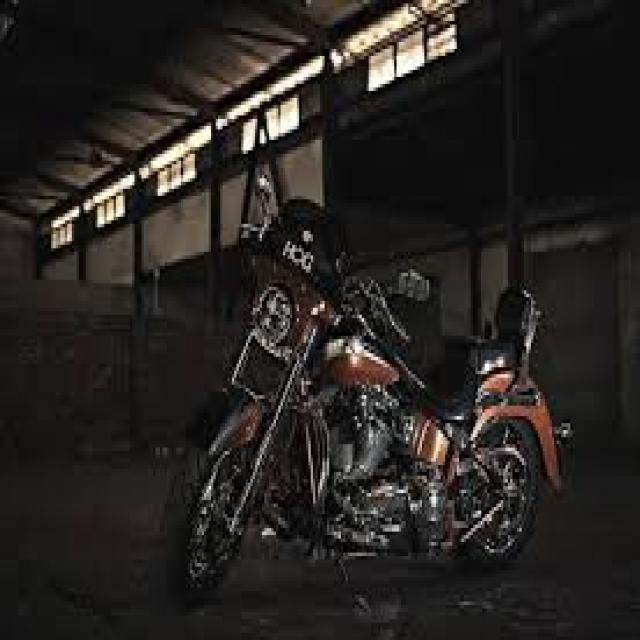Bike: (155, 172, 573, 611)
